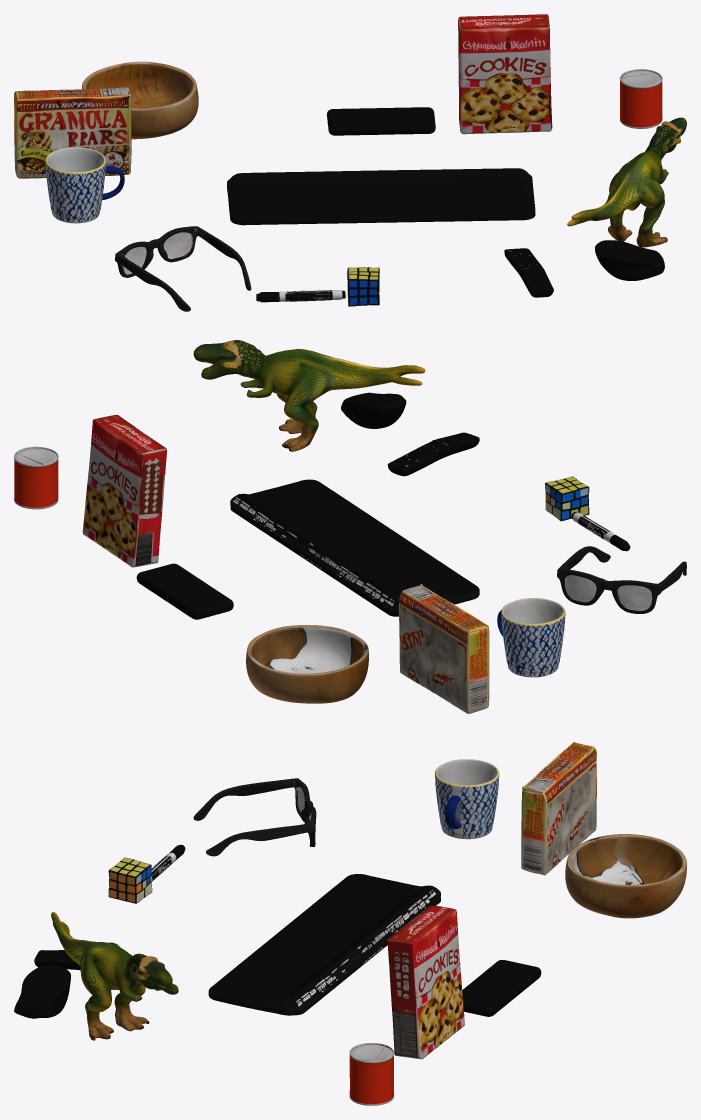
Rendered from simfoundry.glb.
3 views of the same model, one above another, from view 1: azimuth 30°, elevation 25°; view 2: azimuth 150°, elevation 25°; view 3: azimuth 270°, elevation 25° (orthographic). The views are drawn at different scales.
Parts seen in each view (by area): view 1: black_keyboard_fioehm_link_iter_6_canonical_mesh_obj, cookies_box_qvtwyl_link_iter_7_canonical_mesh_obj, granola_bars_box_uokhwv_link_iter_11_canonical_mesh_obj, wooden_bowl_stdzzh_link_iter_12_canonical_mesh_obj, green_dinosaur_toy_gmfpwr_link_iter_1_canonical_mesh_obj, blue_and_white_mug_wglvif_link_iter_9_canonical_mesh_obj, black_eyeglasses_ackkik_link_iter_5_canonical_mesh_obj, black_smartphone_recten_link_iter_10_canonical_mesh_obj, red_can_kenpll_link_iter_8_canonical_mesh_obj, black_mouse_fwlnza_link_iter_0_canonical_mesh_obj, black_remote_bmknxv_link_iter_2_canonical_mesh_obj, rubik_s_cube_xjvbgw_link_iter_3_canonical_mesh_obj (+1 smaller); view 2: black_keyboard_fioehm_link_iter_6_canonical_mesh_obj, cookies_box_qvtwyl_link_iter_7_canonical_mesh_obj, green_dinosaur_toy_gmfpwr_link_iter_1_canonical_mesh_obj, granola_bars_box_uokhwv_link_iter_11_canonical_mesh_obj, wooden_bowl_stdzzh_link_iter_12_canonical_mesh_obj, blue_and_white_mug_wglvif_link_iter_9_canonical_mesh_obj, black_eyeglasses_ackkik_link_iter_5_canonical_mesh_obj, black_smartphone_recten_link_iter_10_canonical_mesh_obj, red_can_kenpll_link_iter_8_canonical_mesh_obj, black_mouse_fwlnza_link_iter_0_canonical_mesh_obj, black_remote_bmknxv_link_iter_2_canonical_mesh_obj, rubik_s_cube_xjvbgw_link_iter_3_canonical_mesh_obj (+1 smaller); view 3: black_keyboard_fioehm_link_iter_6_canonical_mesh_obj, cookies_box_qvtwyl_link_iter_7_canonical_mesh_obj, wooden_bowl_stdzzh_link_iter_12_canonical_mesh_obj, granola_bars_box_uokhwv_link_iter_11_canonical_mesh_obj, green_dinosaur_toy_gmfpwr_link_iter_1_canonical_mesh_obj, blue_and_white_mug_wglvif_link_iter_9_canonical_mesh_obj, black_eyeglasses_ackkik_link_iter_5_canonical_mesh_obj, black_smartphone_recten_link_iter_10_canonical_mesh_obj, red_can_kenpll_link_iter_8_canonical_mesh_obj, black_mouse_fwlnza_link_iter_0_canonical_mesh_obj, rubik_s_cube_xjvbgw_link_iter_3_canonical_mesh_obj, black_remote_bmknxv_link_iter_2_canonical_mesh_obj.
Part boxes in pixels (x1,y1,x2,y2): black_keyboard_fioehm_link_iter_6_canonical_mesh_obj: [227, 168, 535, 225]; cookies_box_qvtwyl_link_iter_7_canonical_mesh_obj: [458, 14, 552, 134]; granola_bars_box_uokhwv_link_iter_11_canonical_mesh_obj: [14, 87, 131, 178]; wooden_bowl_stdzzh_link_iter_12_canonical_mesh_obj: [82, 61, 198, 139]; green_dinosaur_toy_gmfpwr_link_iter_1_canonical_mesh_obj: [567, 117, 686, 247]; blue_and_white_mug_wglvif_link_iter_9_canonical_mesh_obj: [45, 147, 124, 223]; black_eyeglasses_ackkik_link_iter_5_canonical_mesh_obj: [115, 226, 251, 311]; black_smartphone_recten_link_iter_10_canonical_mesh_obj: [327, 107, 435, 135]; red_can_kenpll_link_iter_8_canonical_mesh_obj: [619, 69, 662, 128]; black_mouse_fwlnza_link_iter_0_canonical_mesh_obj: [595, 240, 664, 280]; black_remote_bmknxv_link_iter_2_canonical_mesh_obj: [504, 248, 553, 297]; rubik_s_cube_xjvbgw_link_iter_3_canonical_mesh_obj: [347, 267, 379, 306]; black_keyboard_fioehm_link_iter_6_canonical_mesh_obj: [230, 479, 479, 616]; cookies_box_qvtwyl_link_iter_7_canonical_mesh_obj: [82, 415, 166, 567]; green_dinosaur_toy_gmfpwr_link_iter_1_canonical_mesh_obj: [193, 340, 425, 451]; granola_bars_box_uokhwv_link_iter_11_canonical_mesh_obj: [399, 584, 489, 713]; wooden_bowl_stdzzh_link_iter_12_canonical_mesh_obj: [246, 625, 368, 703]; blue_and_white_mug_wglvif_link_iter_9_canonical_mesh_obj: [497, 598, 565, 677]; black_eyeglasses_ackkik_link_iter_5_canonical_mesh_obj: [557, 546, 686, 613]; black_smartphone_recten_link_iter_10_canonical_mesh_obj: [136, 563, 233, 619]; red_can_kenpll_link_iter_8_canonical_mesh_obj: [14, 446, 58, 509]; black_mouse_fwlnza_link_iter_0_canonical_mesh_obj: [341, 392, 406, 428]; black_remote_bmknxv_link_iter_2_canonical_mesh_obj: [387, 432, 479, 476]; rubik_s_cube_xjvbgw_link_iter_3_canonical_mesh_obj: [545, 476, 589, 521]; black_keyboard_fioehm_link_iter_6_canonical_mesh_obj: [208, 874, 440, 1015]; cookies_box_qvtwyl_link_iter_7_canonical_mesh_obj: [387, 905, 464, 1059]; wooden_bowl_stdzzh_link_iter_12_canonical_mesh_obj: [565, 834, 686, 918]; granola_bars_box_uokhwv_link_iter_11_canonical_mesh_obj: [521, 742, 596, 875]; green_dinosaur_toy_gmfpwr_link_iter_1_canonical_mesh_obj: [51, 912, 178, 1040]; blue_and_white_mug_wglvif_link_iter_9_canonical_mesh_obj: [434, 759, 499, 839]; black_eyeglasses_ackkik_link_iter_5_canonical_mesh_obj: [193, 778, 316, 856]; black_smartphone_recten_link_iter_10_canonical_mesh_obj: [462, 960, 541, 1016]; red_can_kenpll_link_iter_8_canonical_mesh_obj: [349, 1043, 394, 1105]; black_mouse_fwlnza_link_iter_0_canonical_mesh_obj: [14, 964, 70, 1018]; rubik_s_cube_xjvbgw_link_iter_3_canonical_mesh_obj: [108, 857, 152, 903]; black_remote_bmknxv_link_iter_2_canonical_mesh_obj: [34, 950, 80, 970].
Size of what is drawn, in the model's own units: 0.7366 by 0.1349 by 0.7033.
Materials: 13 (13 with a texture image).
